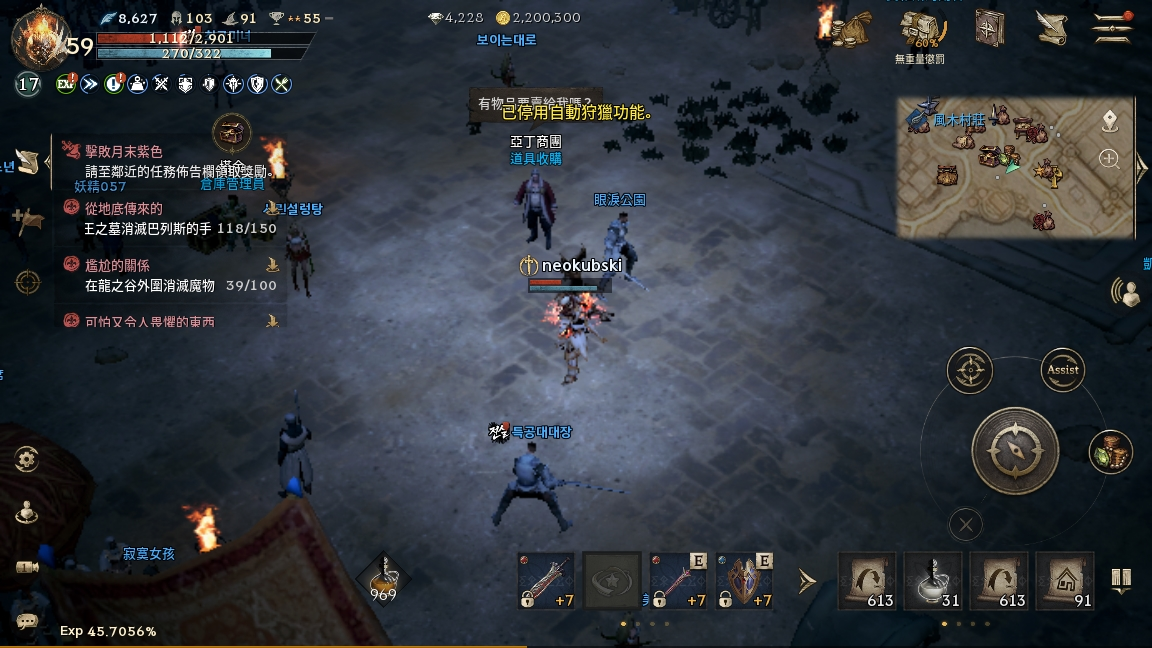enemy: (486, 419, 511, 446)
